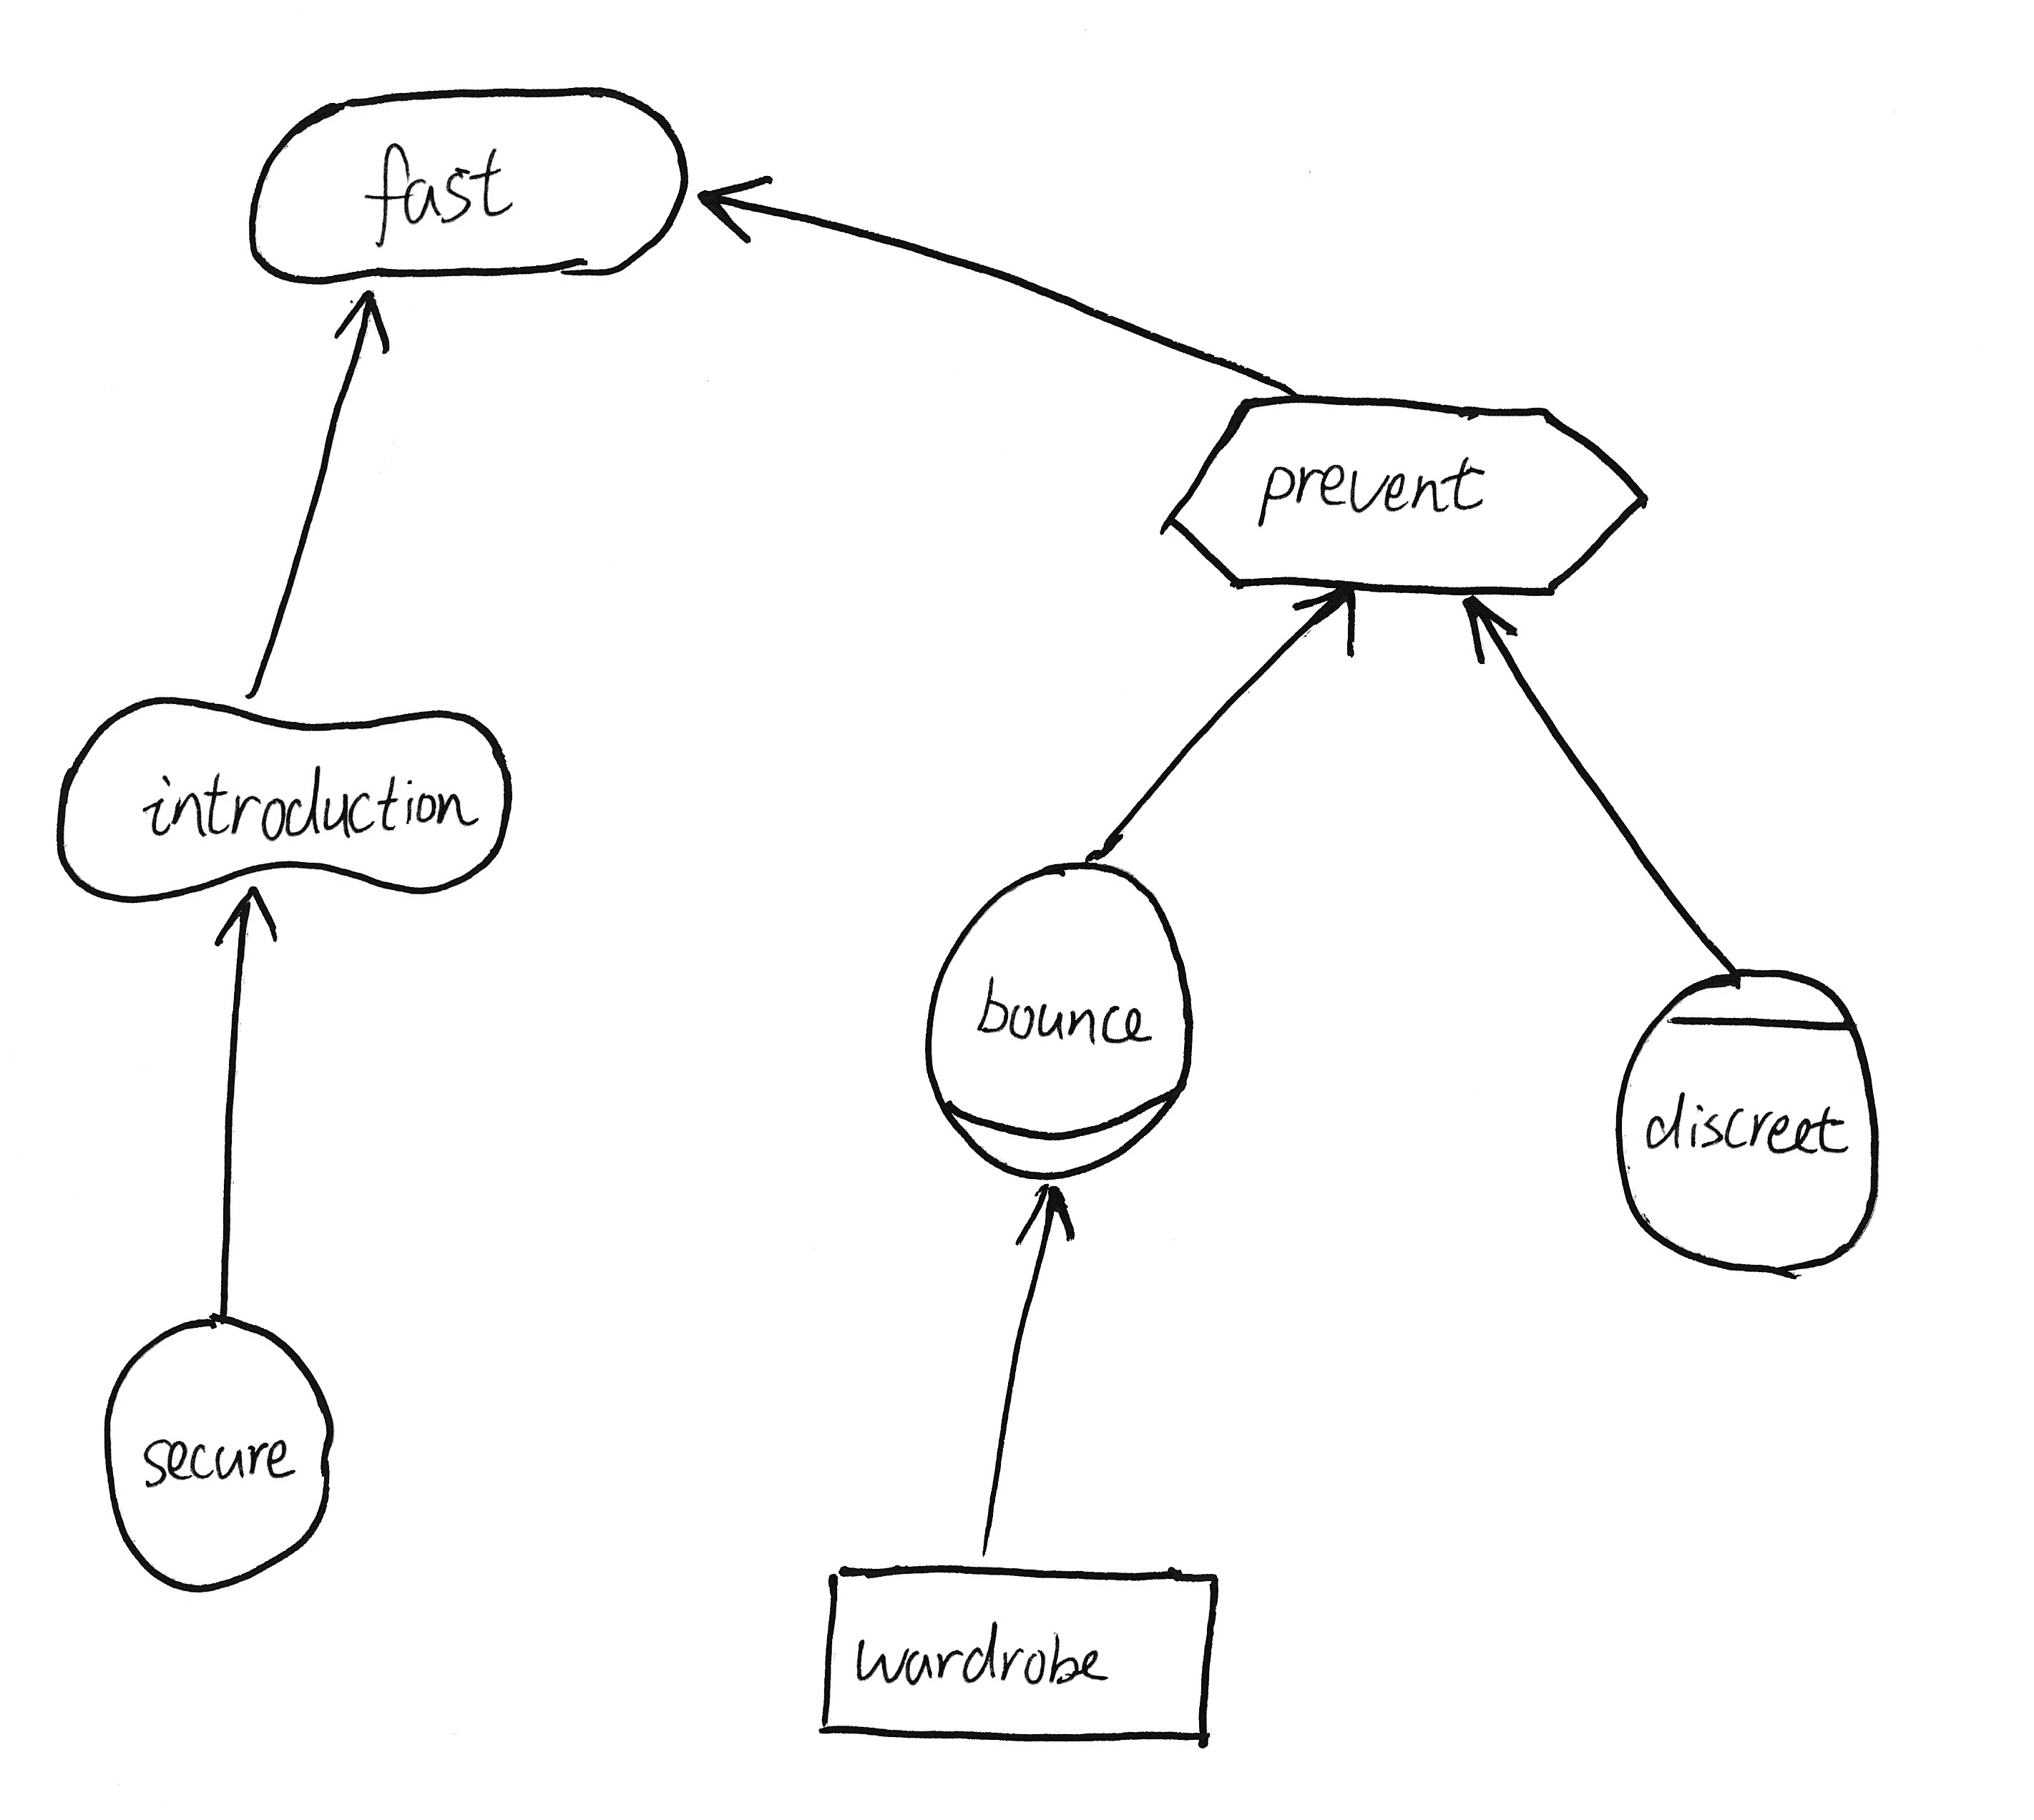actor: (90, 1295, 355, 1604)
agent: (1605, 952, 1892, 1289)
arrow: (687, 151, 780, 265), (1273, 583, 1372, 671), (209, 877, 300, 964), (316, 285, 399, 374), (1451, 589, 1533, 678), (1003, 1179, 1093, 1260)
goal: (225, 74, 701, 293)
quality: (37, 678, 522, 917)
resource: (799, 1546, 1245, 1764)
role: (912, 845, 1212, 1191)
task: (1143, 381, 1662, 611)
